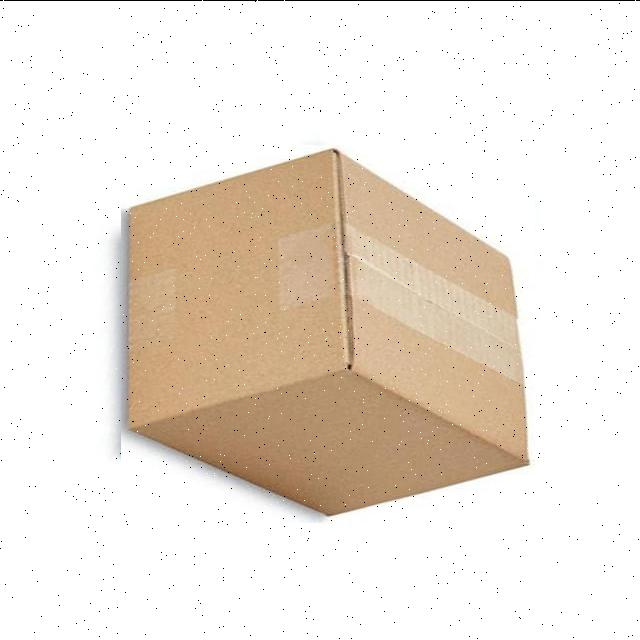normal: (121, 144, 535, 522)
